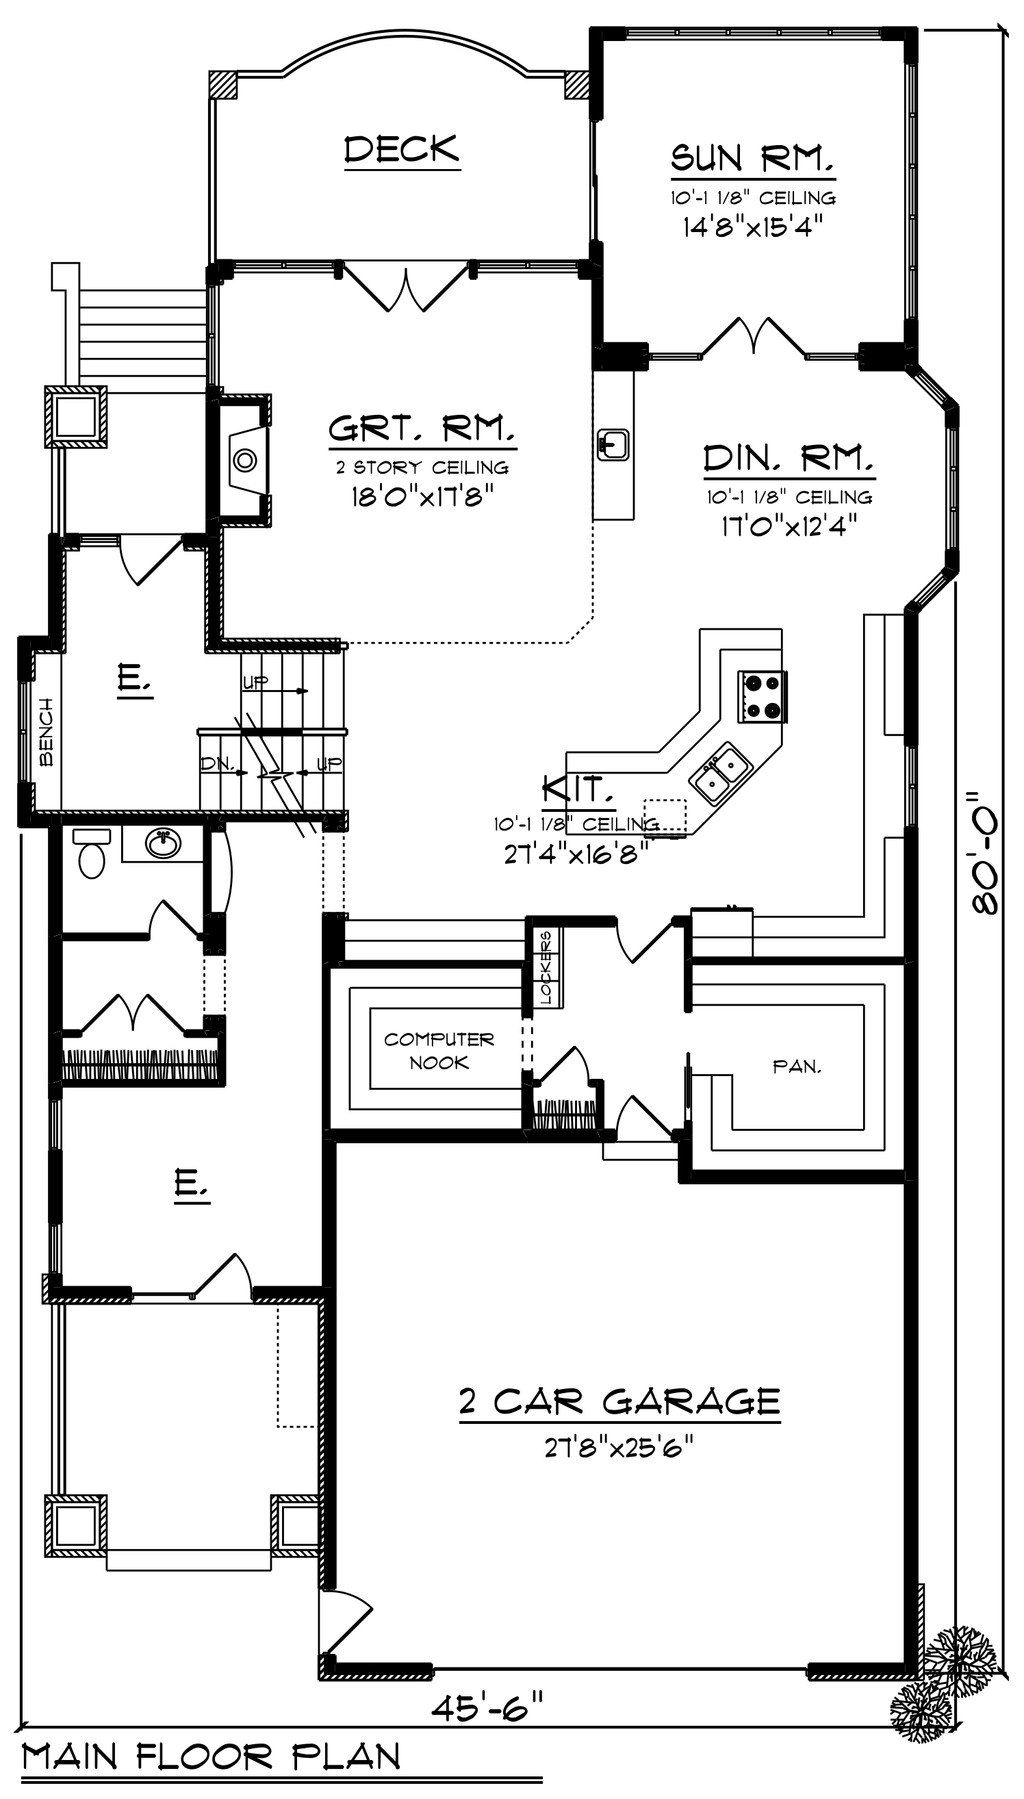door: (330, 245, 478, 316), (693, 306, 800, 364), (74, 993, 190, 1039), (111, 531, 184, 584), (317, 1583, 372, 1652), (187, 1250, 251, 1308), (603, 908, 667, 963), (609, 1089, 672, 1143), (536, 1043, 603, 1093), (136, 899, 190, 946)
kitchen_bar: (548, 624, 807, 836)
large_sink: (70, 825, 122, 883)
small_sink: (112, 820, 203, 874)
stairs: (190, 649, 357, 815), (44, 255, 211, 400)
